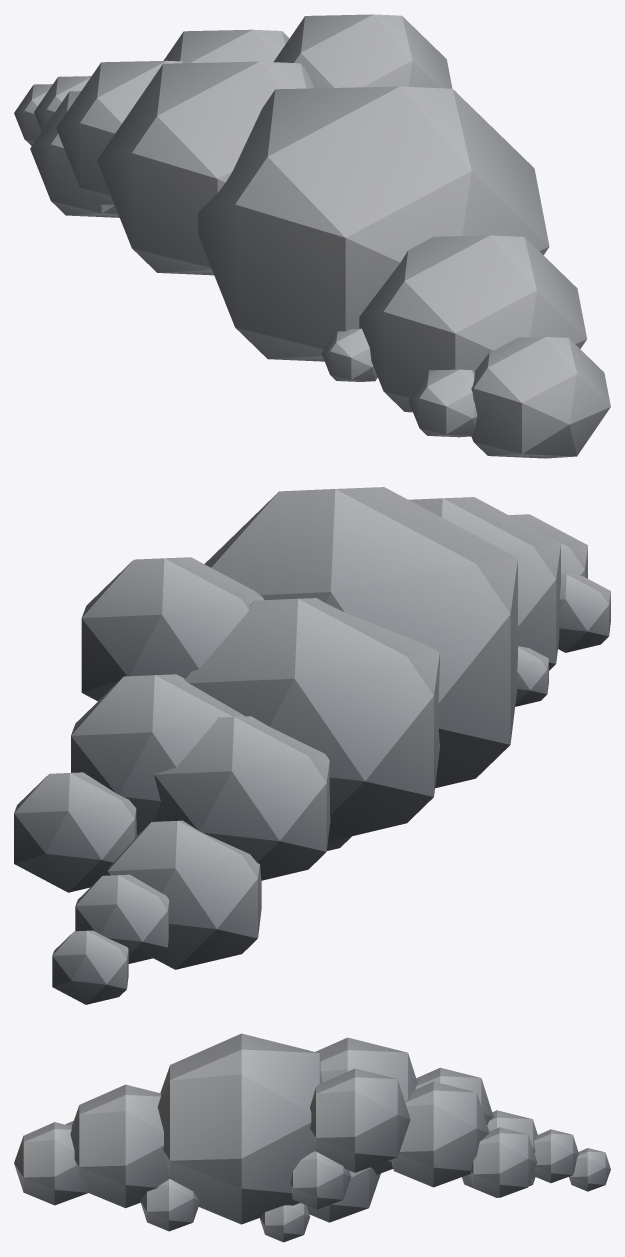
File: nubes4.fbx
3 renders of one model, top to bottom at view 1: azimuth 30°, elevation 25°; view 2: azimuth 150°, elevation 25°; view 3: azimuth 270°, elevation 25°, orthographic. The views are drawn at different scales.
Visible parts, largest first — view 1: nube4; view 2: nube4; view 3: nube4.
Part boxes in pixels (<box>): nube4: <box>14,14,610,458</box>; nube4: <box>14,487,610,1004</box>; nube4: <box>14,1033,610,1242</box>.
Bounding box in the file's own units: 971 × 831 × 2583.
